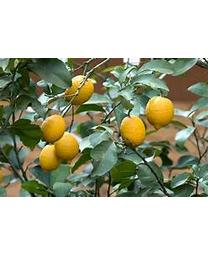lemon: (145, 96, 175, 130), (120, 115, 147, 148), (64, 76, 93, 105), (53, 133, 80, 160), (40, 115, 66, 143), (39, 144, 61, 172)
